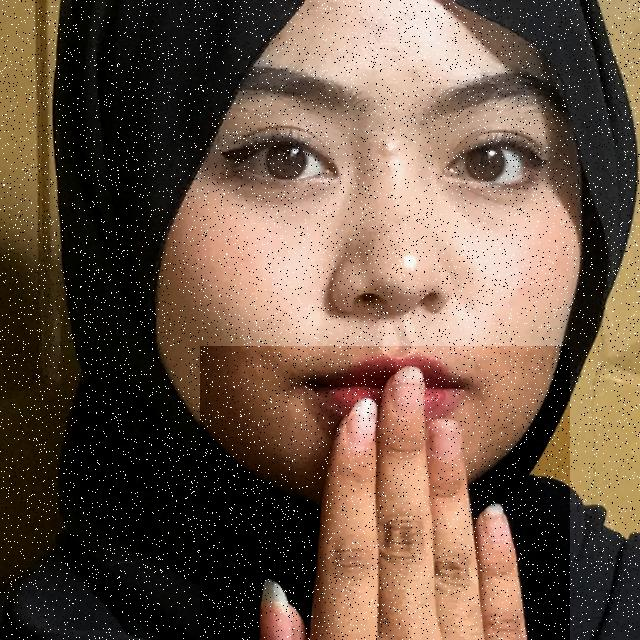ganteng: (200, 346, 570, 640)
